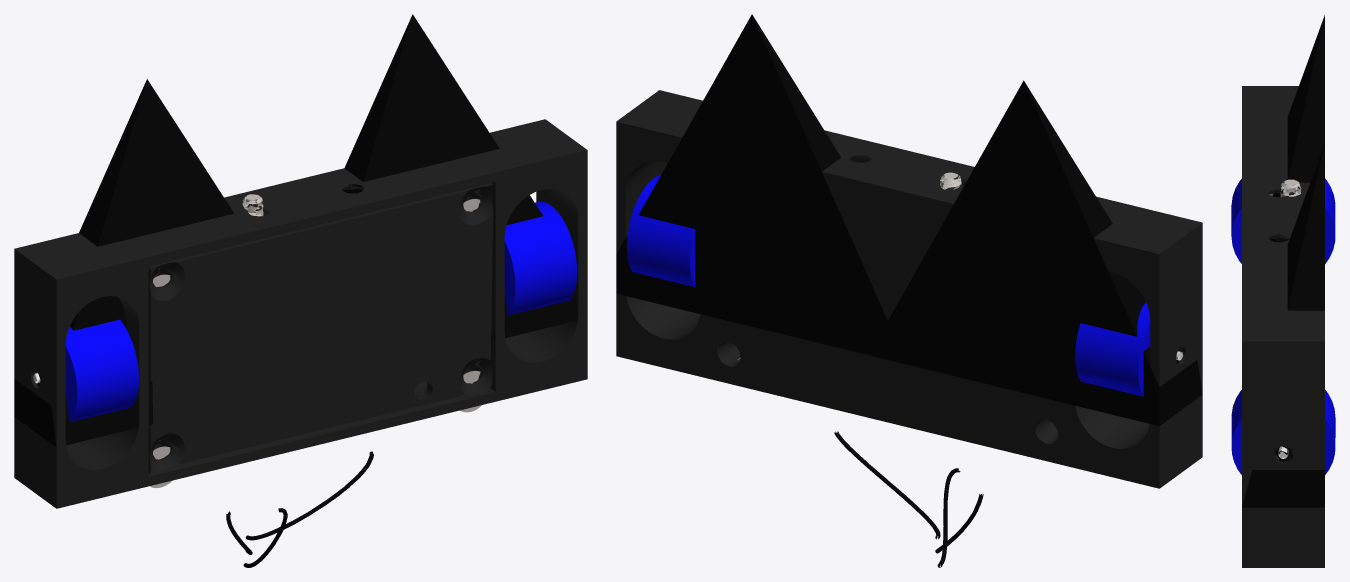
Rendered from twofold-opt.glb.
The picture shows the model from 3 angles, left to right: view 1: azimuth 30°, elevation 25°; view 2: azimuth 150°, elevation 25°; view 3: azimuth 270°, elevation 25°; orthographic projection. The views are drawn at different scales.
Visible parts, largest first — view 1: Top, Part 12, Tires, 92095A452_Button Head Hex Drive Screw; view 2: Part 12, Top, Tires; view 3: Top, Part 12, Tires, 92095A452_Button Head Hex Drive Screw.
Boxes of the visible parts, x1=… form: Top: x1=14, y1=119, x2=587, y2=508; Part 12: x1=14, y1=14, x2=577, y2=567; Tires: x1=65, y1=201, x2=577, y2=422; 92095A452_Button Head Hex Drive Screw: x1=150, y1=194, x2=481, y2=488; Part 12: x1=616, y1=14, x2=1202, y2=567; Top: x1=616, y1=90, x2=1202, y2=488; Tires: x1=626, y1=174, x2=1150, y2=396; Top: x1=1242, y1=86, x2=1324, y2=567; Part 12: x1=1242, y1=15, x2=1324, y2=507; Tires: x1=1231, y1=178, x2=1335, y2=474; 92095A452_Button Head Hex Drive Screw: x1=1269, y1=179, x2=1301, y2=196.
Bounding box in the file's own units: 6050689 × 5492283 × 1040171.
